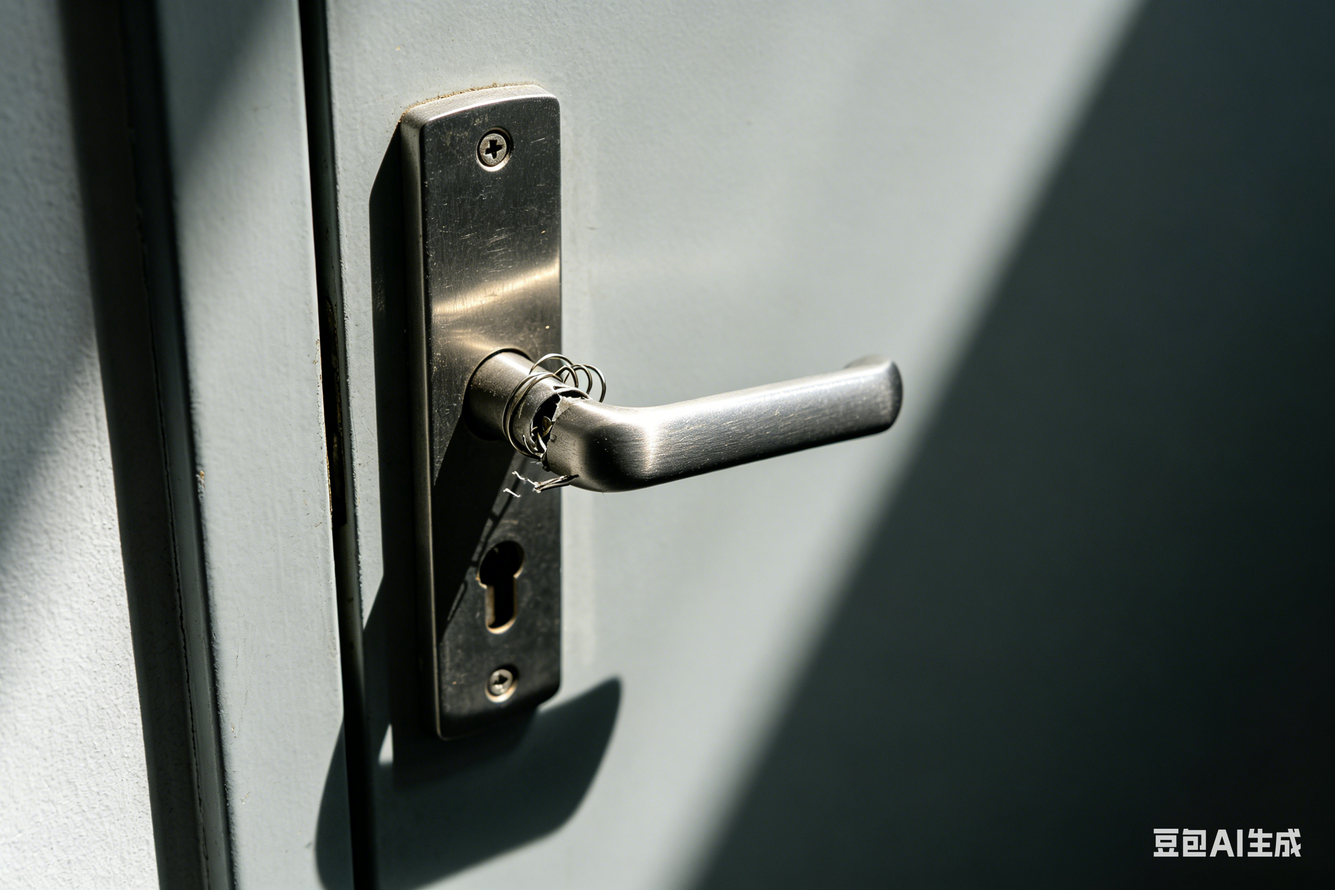BadLock: (477, 350, 613, 488)
